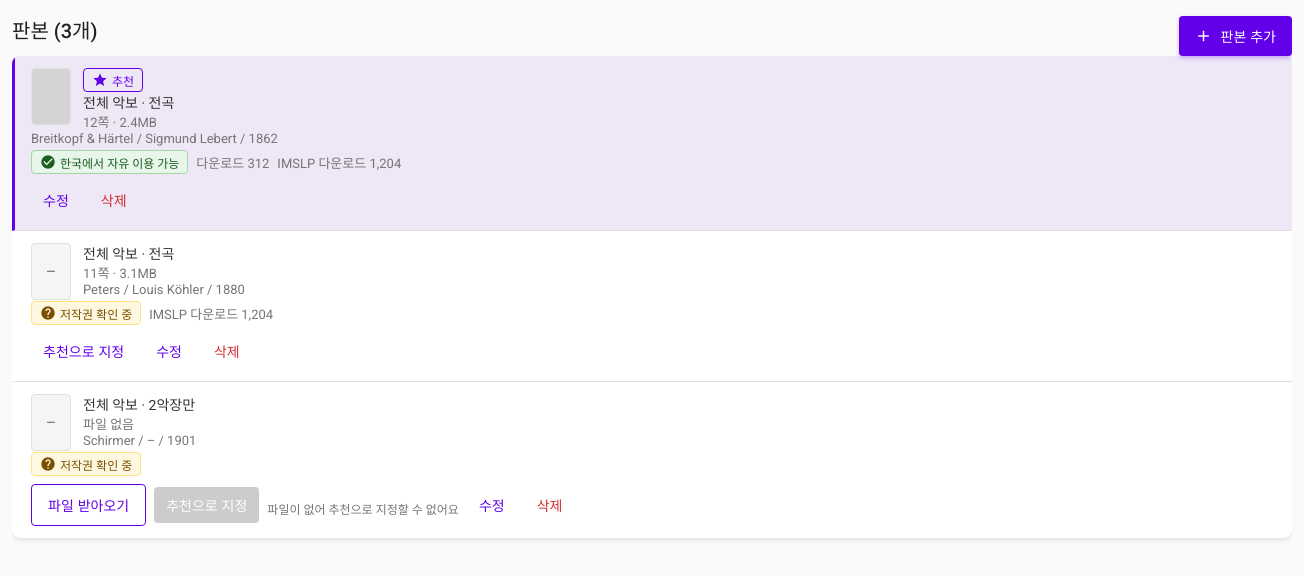
Scenario: EditionListSection — 파일 받아오기 › 202 → 버튼이 '받아오는 중…' 으로 잠기고 안내 줄이 뜬다
Click the button "파일 받아오기" at (89, 505), box [31,484,146,526]
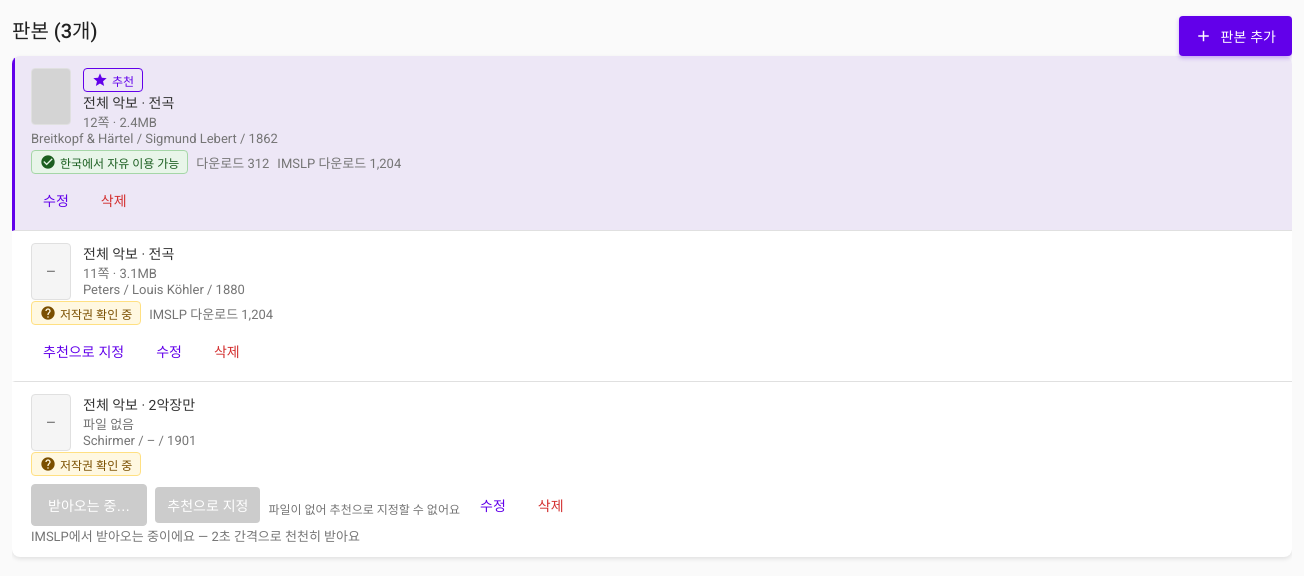
Expected: the text "IMSLP에서 받아오는 중이에요 — 2초 간격으로 천천히 받아요" is shown, [31,529,360,544]
Expected: the button "받아오는 중…" is disabled, [31,484,147,526]
